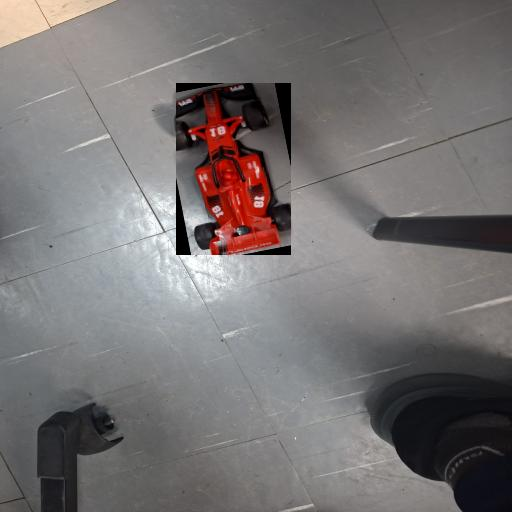carro: (176, 83, 291, 255)
